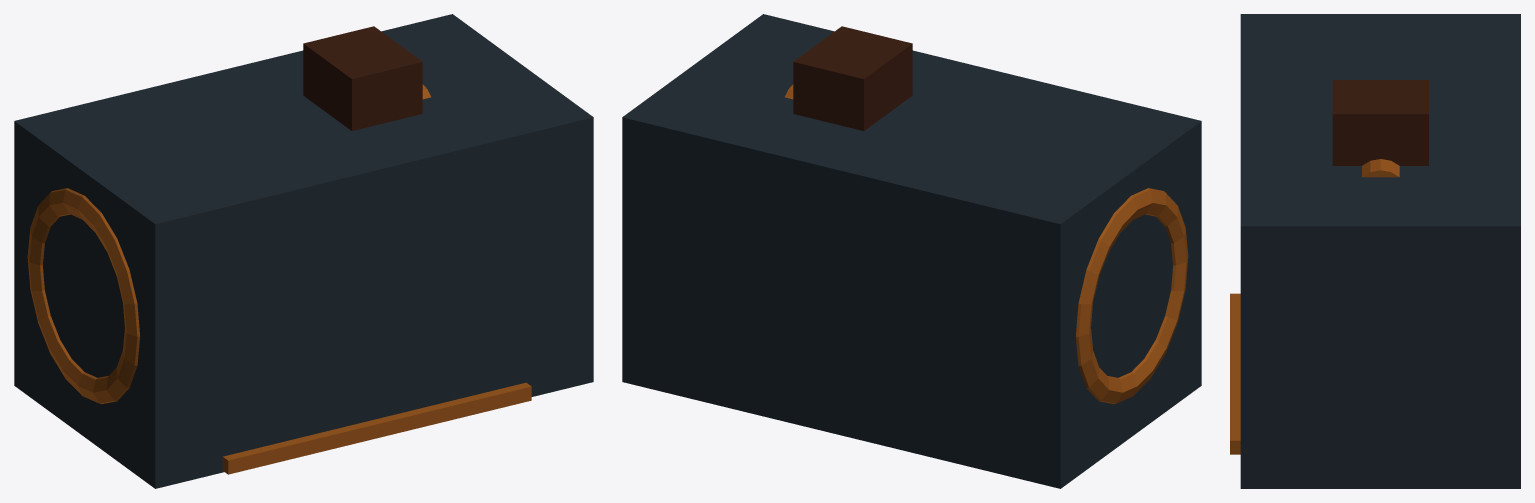
File: camera.obj
3 renders of one model, left to right at view 1: azimuth 30°, elevation 25°; view 2: azimuth 150°, elevation 25°; view 3: azimuth 270°, elevation 25°, orthographic.
Visible parts, largest first — view 1: painted_metal, brass, dark_wood; view 2: painted_metal, dark_wood, brass; view 3: painted_metal, dark_wood, brass.
Part boxes in pixels (<box>): painted_metal: <box>14,14,593,488</box>; brass: <box>27,84,531,474</box>; dark_wood: <box>303,26,422,130</box>; painted_metal: <box>622,14,1201,488</box>; dark_wood: <box>793,26,912,130</box>; brass: <box>785,84,1188,403</box>; painted_metal: <box>1240,14,1520,488</box>; dark_wood: <box>1332,80,1428,165</box>; brass: <box>1230,159,1399,454</box>.
Bounding box in the file's own units: 2.64 × 1.8 × 1.5.
